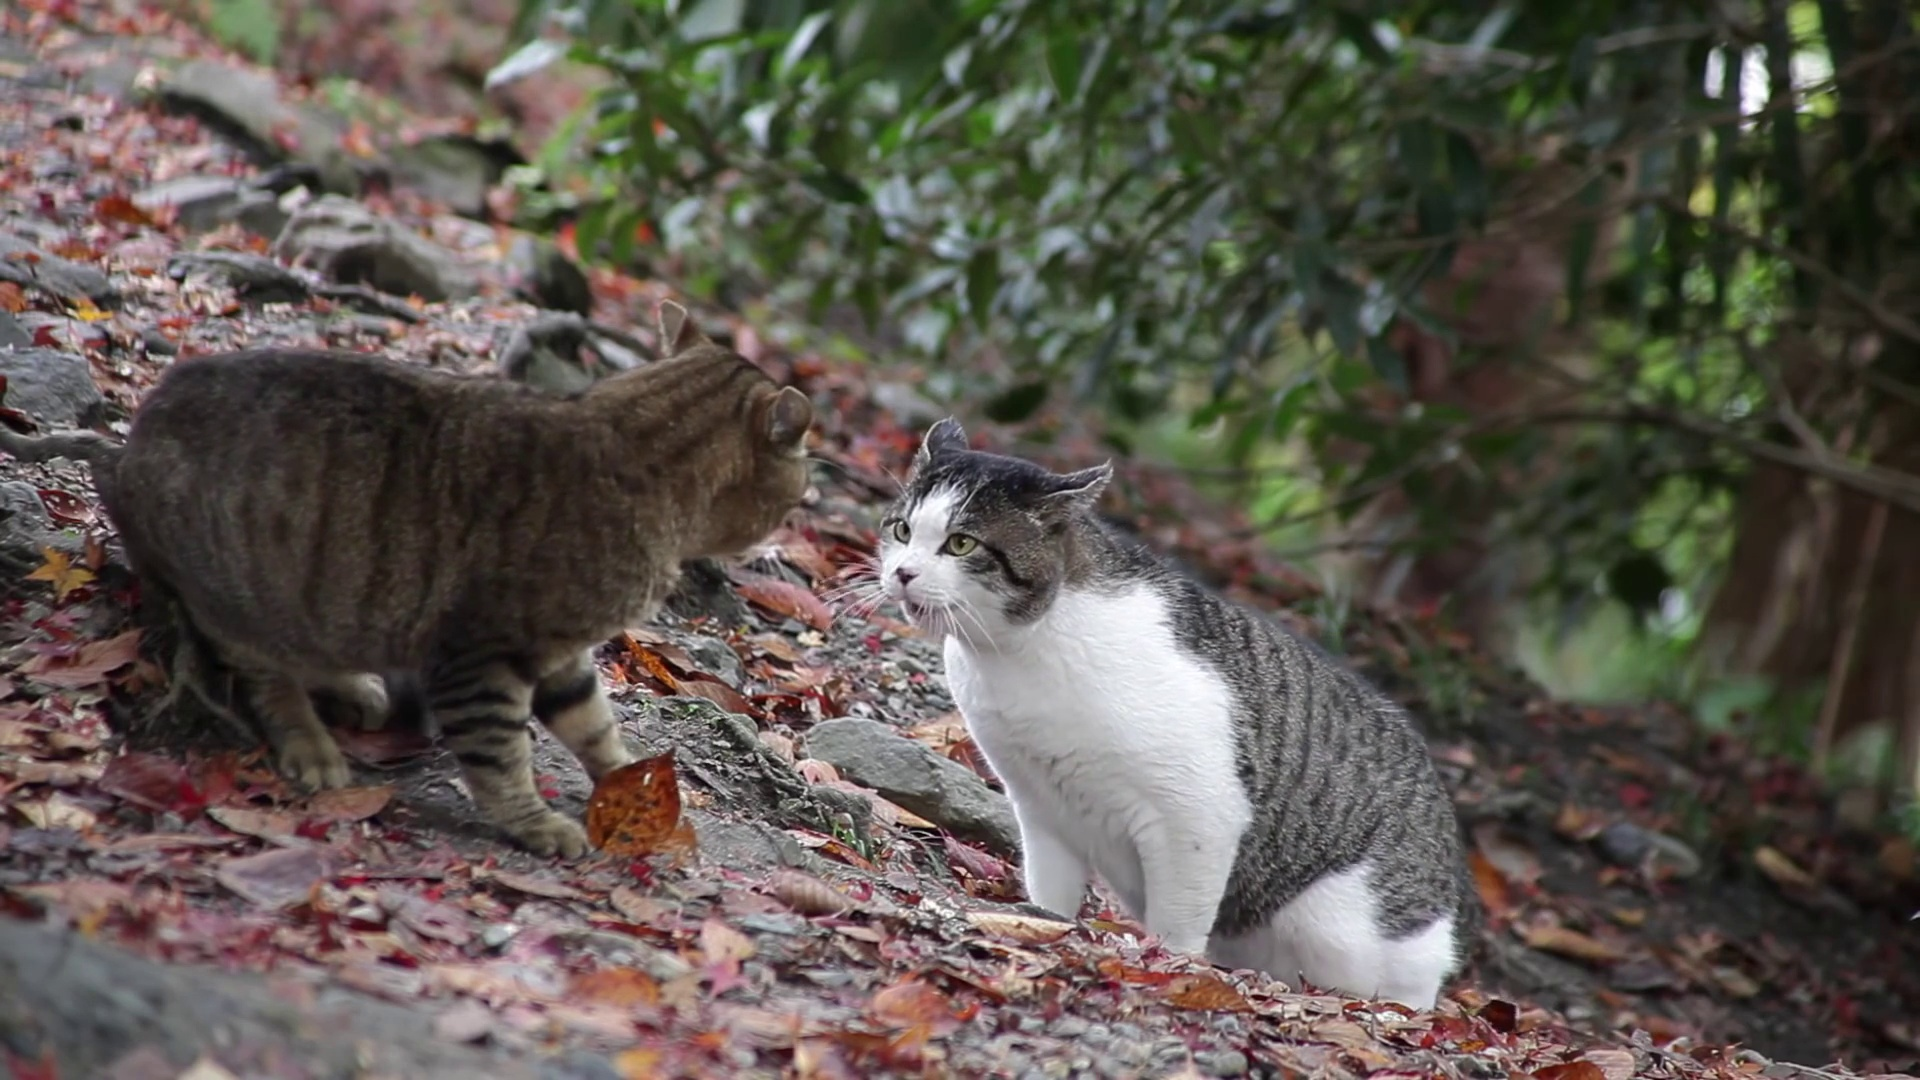black-white: (880, 415, 1461, 1000)
pure black: (116, 299, 811, 862)
